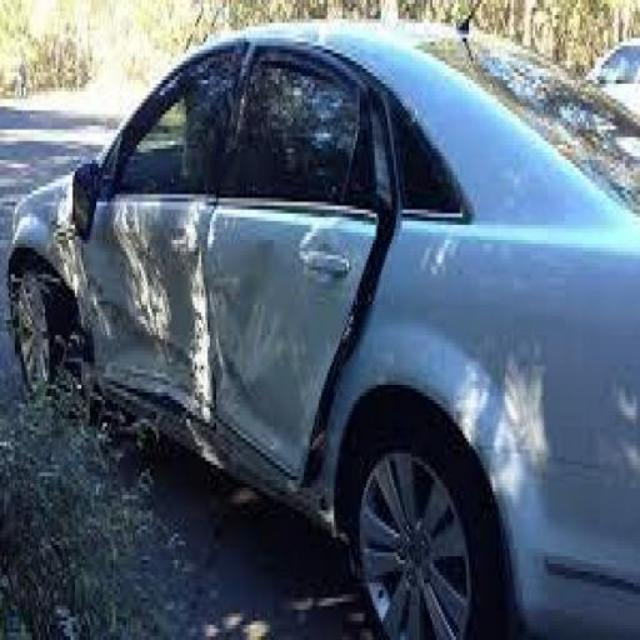dent: (76, 208, 215, 436)
glass shatter: (61, 33, 356, 214)
